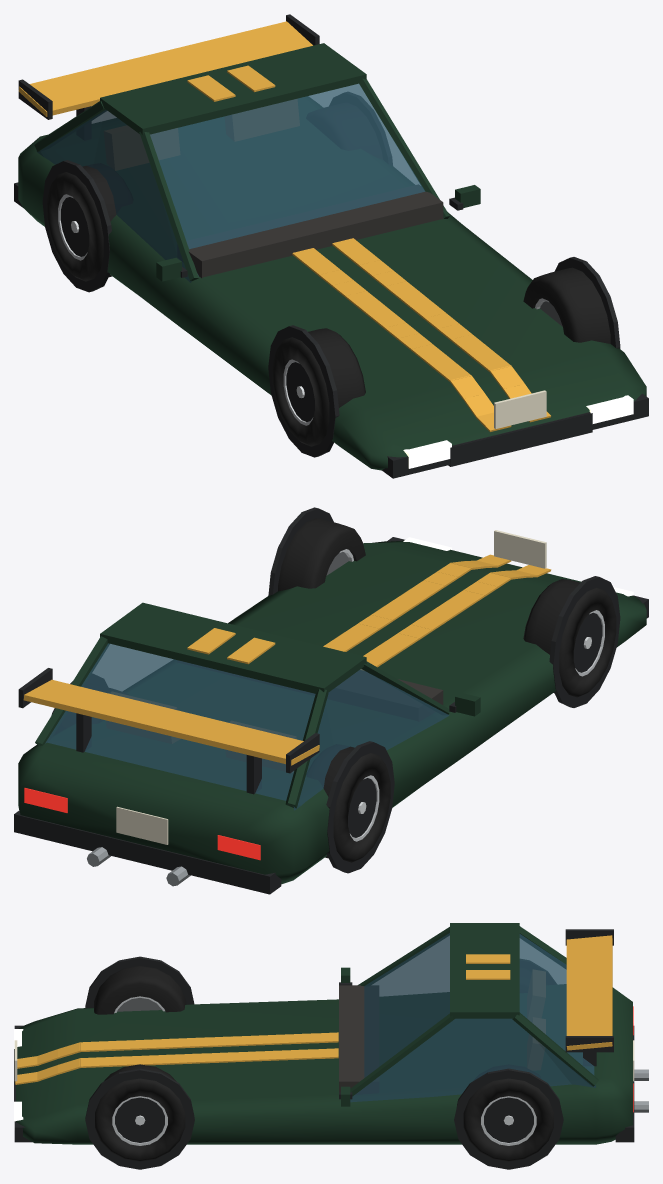
File: comet-hyper.glb
The picture shows the model from 3 angles, top to bottom: view 1: azimuth 30°, elevation 25°; view 2: azimuth 150°, elevation 25°; view 3: azimuth 270°, elevation 25°; orthographic projection. The views are drawn at different scales.
Visible parts, largest first — view 1: body, wheel_FR, wheel_RR, wheel_FL, wheel_RL, plate_F, headlight_R, headlight_L; view 2: body, wheel_FR, wheel_RR, wheel_FL, plate_F, plate_R, taillight_R, taillight_L; view 3: body, wheel_FL, wheel_RL, wheel_FR.
Part boxes in pixels (left/top/right/bottom): body: left=14, top=14, right=648, bottom=478; wheel_FR: left=272, top=328, right=365, bottom=446; wheel_RR: left=46, top=163, right=132, bottom=281; wheel_FL: left=523, top=267, right=610, bottom=343; wheel_RL: left=306, top=103, right=382, bottom=158; plate_F: left=494, top=390, right=546, bottom=428; headlight_R: left=403, top=440, right=451, bottom=468; headlight_L: left=586, top=395, right=633, bottom=423; body: left=14, top=507, right=648, bottom=894; wheel_FR: left=523, top=579, right=616, bottom=697; wheel_RR: left=306, top=744, right=390, bottom=862; wheel_FL: left=278, top=518, right=365, bottom=591; plate_F: left=494, top=530, right=546, bottom=568; plate_R: left=116, top=806, right=168, bottom=844; taillight_R: left=217, top=835, right=260, bottom=860; taillight_L: left=24, top=788, right=67, bottom=812; body: left=14, top=923, right=634, bottom=1169; wheel_FL: left=95, top=1064, right=185, bottom=1161; wheel_RL: left=463, top=1065, right=553, bottom=1161; wheel_FR: left=94, top=966, right=186, bottom=1014.
Size of the model in its own units: 2.24 by 1.21 by 4.74.
